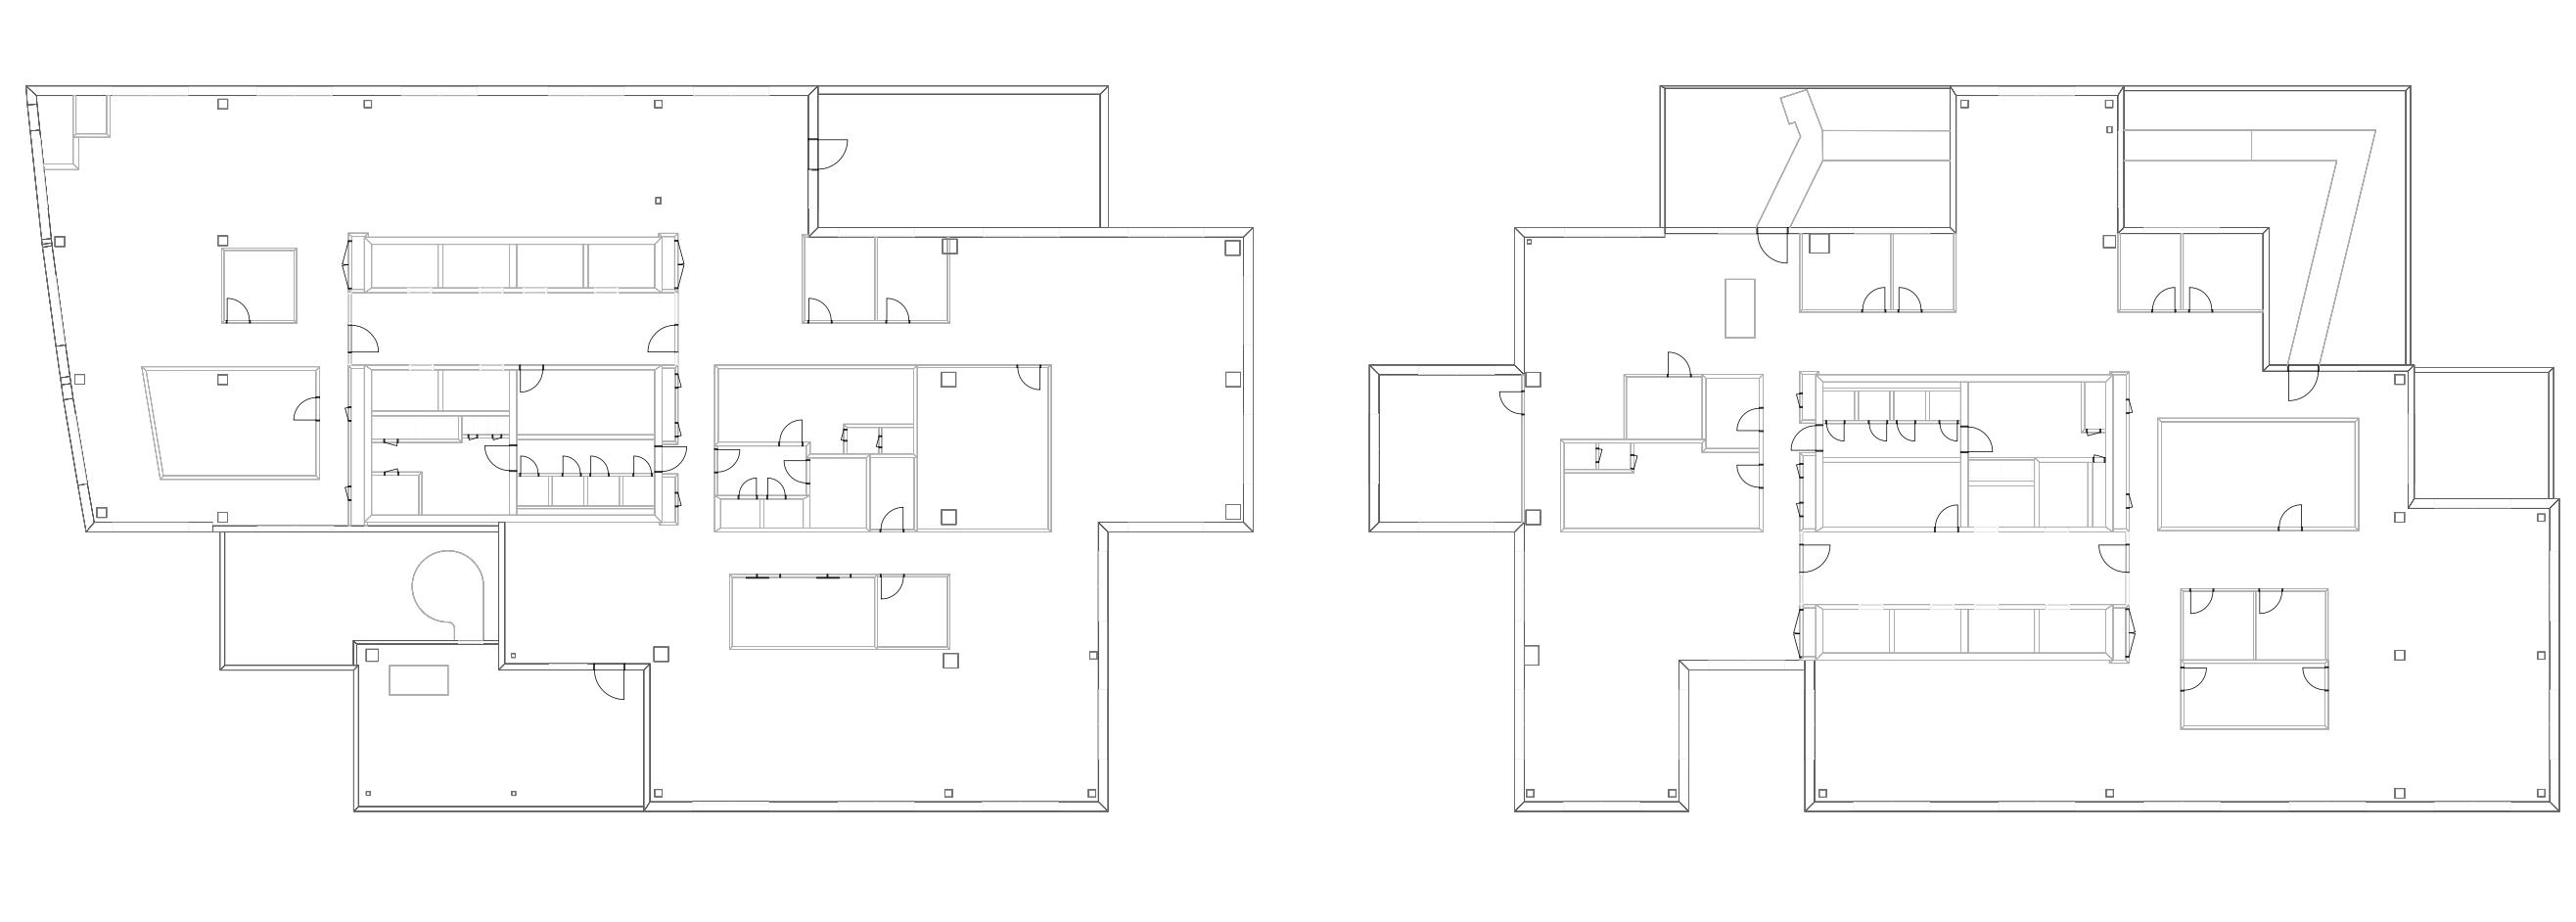room: (2124, 90, 2405, 365), (356, 646, 644, 807), (1664, 87, 1950, 227), (818, 94, 1101, 227), (225, 531, 499, 666), (1802, 531, 2126, 605), (350, 368, 513, 514), (352, 294, 675, 363), (917, 366, 1048, 529), (1378, 375, 1521, 521), (2160, 421, 2356, 528), (146, 370, 317, 475), (2415, 371, 2550, 500), (718, 368, 913, 454), (1564, 442, 1759, 528), (1968, 381, 2106, 459), (733, 577, 876, 648), (2183, 662, 2325, 726), (1824, 462, 1960, 528), (516, 370, 654, 434), (1802, 233, 1891, 309), (2183, 233, 2262, 309), (803, 237, 874, 320), (877, 238, 946, 320), (877, 577, 948, 648), (225, 250, 294, 320), (2183, 590, 2254, 659), (2256, 590, 2326, 659), (517, 439, 654, 473), (1628, 376, 1702, 439), (1894, 233, 1953, 311), (1824, 424, 1960, 457), (2121, 233, 2180, 309), (718, 445, 807, 495), (810, 459, 866, 528), (1705, 378, 1758, 449), (871, 457, 915, 529), (2039, 462, 2088, 526), (371, 243, 439, 288), (588, 243, 655, 288), (1894, 608, 1962, 652), (1968, 608, 2035, 652), (517, 243, 583, 288), (1822, 610, 1889, 652), (2039, 610, 2106, 652), (444, 245, 509, 288), (1968, 486, 2034, 526), (1968, 460, 2034, 482), (720, 498, 761, 528), (764, 500, 803, 528), (2085, 383, 2106, 429), (516, 477, 549, 506), (662, 368, 675, 440), (552, 477, 583, 506), (623, 477, 654, 506), (1858, 391, 1889, 421), (1894, 391, 1925, 421), (1598, 442, 1631, 470), (588, 477, 619, 505), (1824, 391, 1855, 419), (1929, 391, 1960, 419), (2093, 462, 2106, 528), (848, 426, 879, 452), (882, 427, 913, 454), (1564, 444, 1595, 470), (662, 477, 675, 523)
